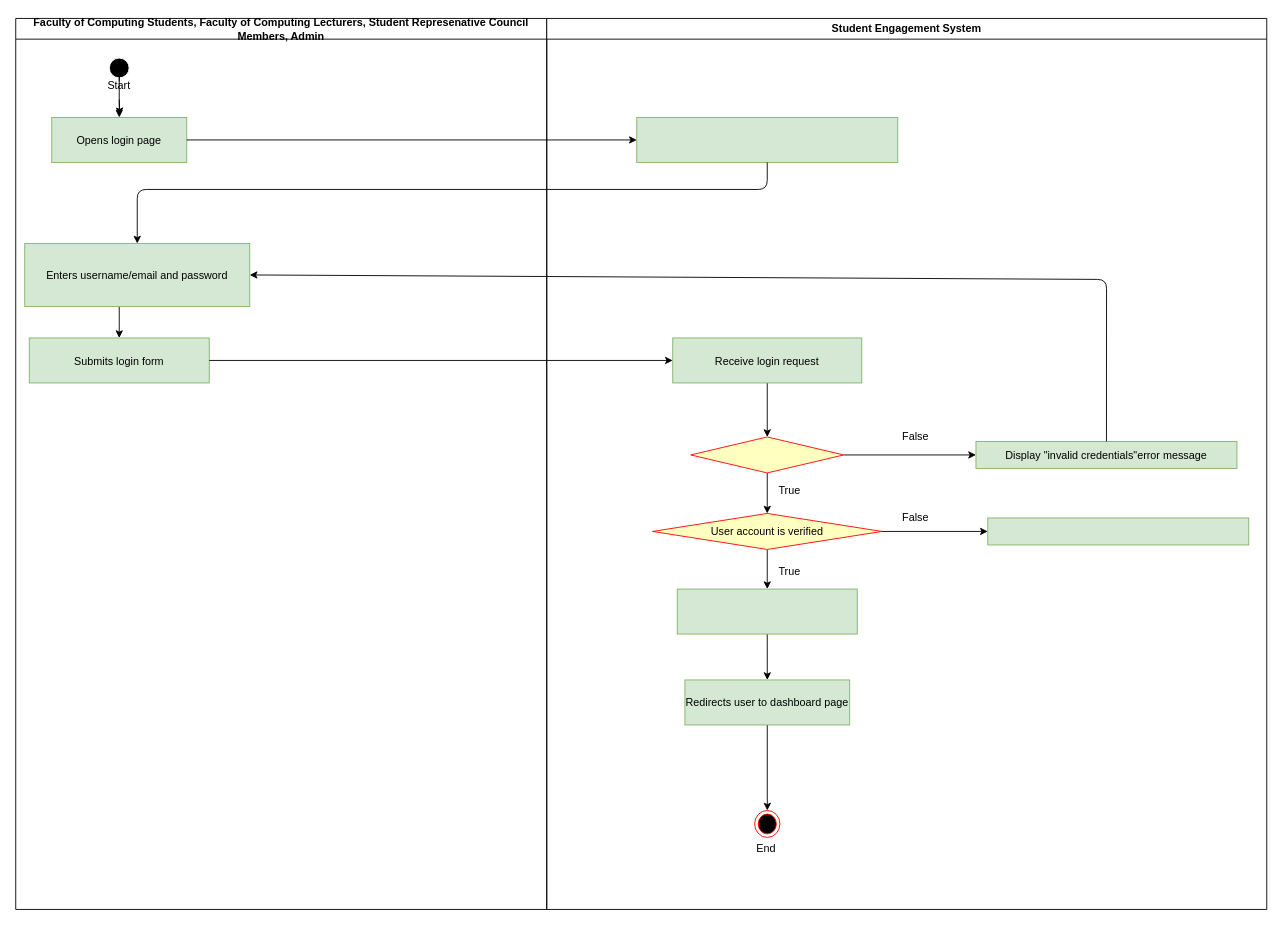
This 1283x925 diagram has some shape labels left out. The centre of each missing label's shape, as x and y in pixels:
Display "user account not verified"error message: point 1118,531
Display login form: point 767,139
Logs user to account: point 766,611
Valid credentials: point 767,454
